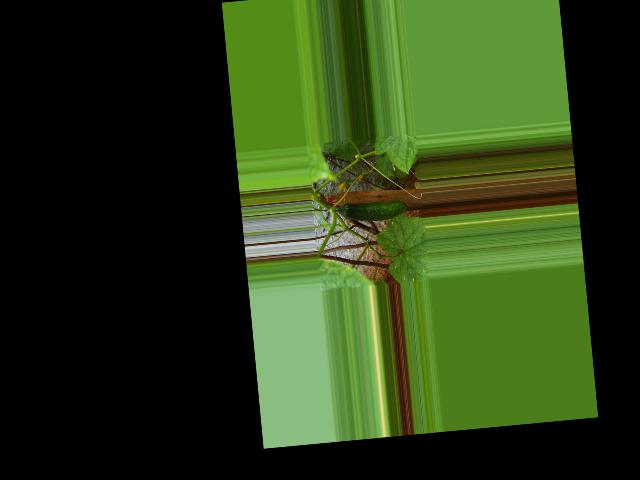cucumber: (340, 197, 408, 224)
